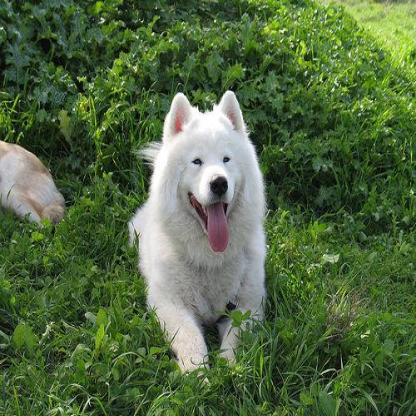Samoyed: (128, 89, 265, 372)
